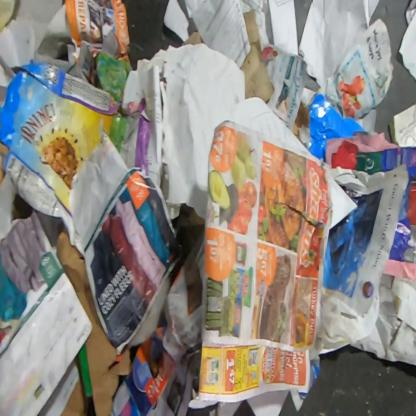cardboard: (0, 62, 154, 257), (55, 226, 132, 415), (306, 92, 368, 165), (36, 354, 96, 415), (292, 100, 310, 140)
